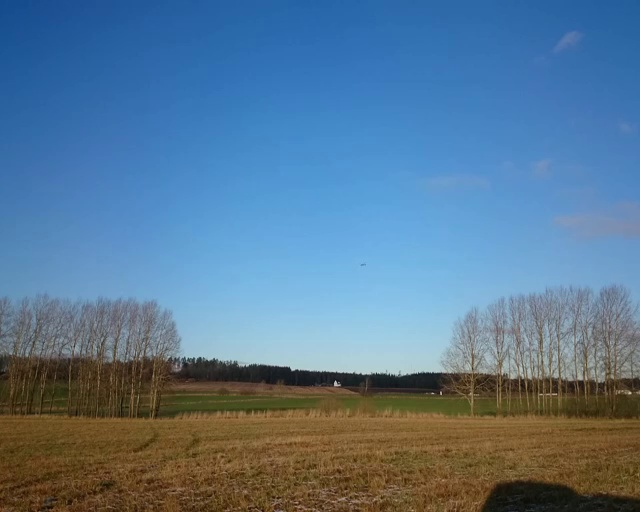DRONE: (358, 261, 367, 267)
